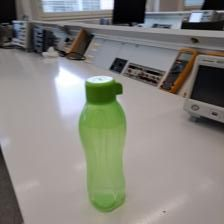bottle: (75, 70, 130, 211)
